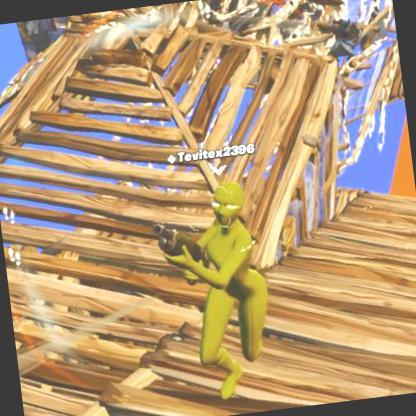person: (180, 182, 294, 372)
